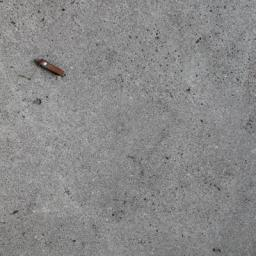FOD: (33, 58, 71, 83)
